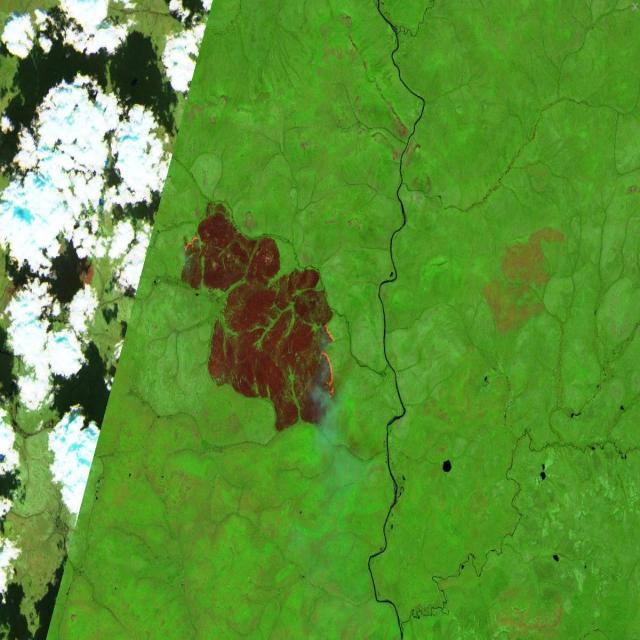fire: (180, 232, 340, 407)
